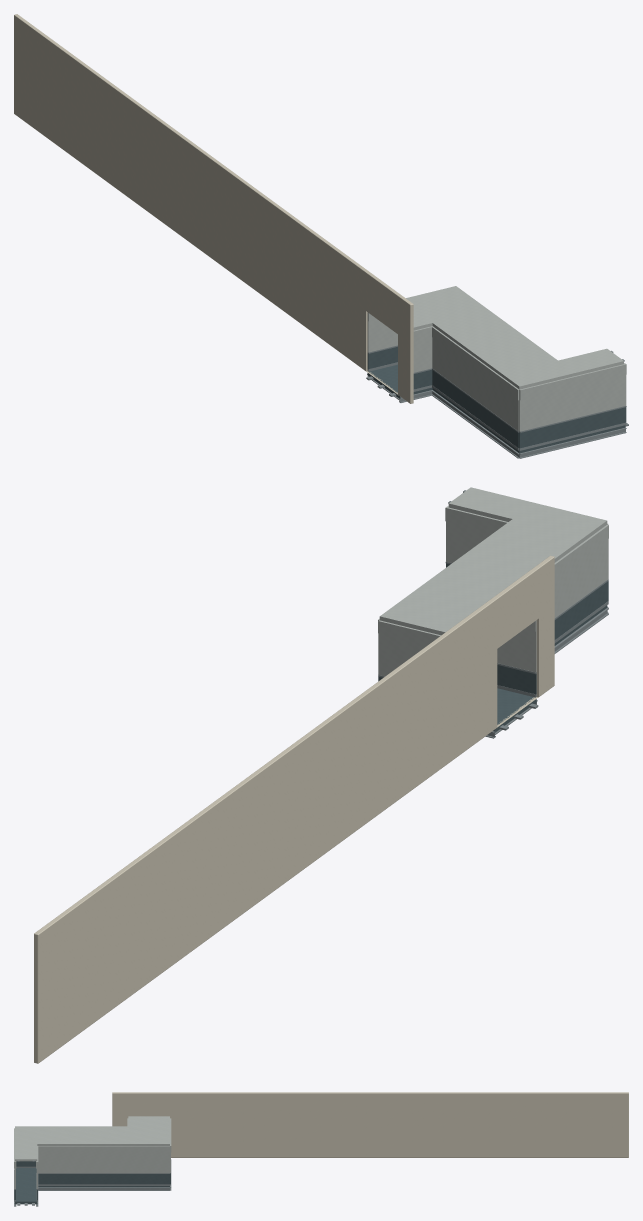
File: STARBOARD_FORE404_RECEIVER_r002.glb
3 views of the same model, one above another, from view 1: azimuth 30°, elevation 25°; view 2: azimuth 150°, elevation 25°; view 3: azimuth 270°, elevation 25° (orthographic). The views are drawn at different scales.
Parts seen in each view (by area): view 1: Perimeter_5_STARBOARD_RECEIVING_GATEWAY, SFR_BATCH_001, SFR_BATCH_000, SFR_BATCH_003; view 2: Perimeter_5_STARBOARD_RECEIVING_GATEWAY, SFR_BATCH_001, SFR_BATCH_000, SFR_BATCH_003; view 3: Perimeter_5_STARBOARD_RECEIVING_GATEWAY, SFR_BATCH_001, SFR_BATCH_000, SFR_BATCH_003.
Boxes of the visible parts, x1,y1,x2,y2 form: Perimeter_5_STARBOARD_RECEIVING_GATEWAY: (14, 14, 413, 403); SFR_BATCH_001: (367, 286, 626, 431); SFR_BATCH_000: (367, 346, 626, 453); SFR_BATCH_003: (366, 345, 628, 458); Perimeter_5_STARBOARD_RECEIVING_GATEWAY: (34, 555, 554, 1063); SFR_BATCH_001: (378, 487, 608, 676); SFR_BATCH_000: (378, 563, 608, 732); SFR_BATCH_003: (378, 490, 608, 738); Perimeter_5_STARBOARD_RECEIVING_GATEWAY: (112, 1092, 628, 1157); SFR_BATCH_001: (14, 1116, 171, 1188); SFR_BATCH_000: (14, 1161, 170, 1204); SFR_BATCH_003: (14, 1159, 171, 1206).
Bounding box in the file's own units: 9.1 × 6.26 × 49.99.
Materials: 7 (6 with a texture image).
